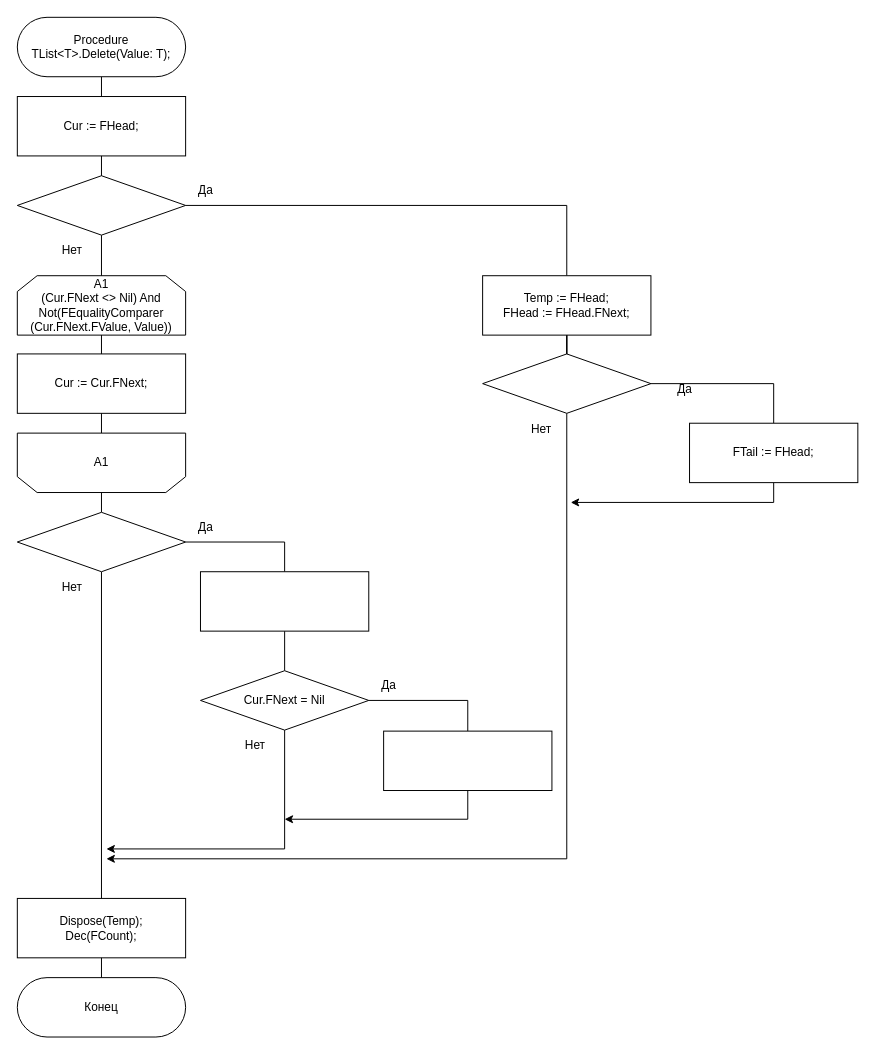
Some shapes in this 875 by 1054 pixel diagram are drawn without their labels. The centre of each missing label's shape, as x and y in pixels:
Cur.FNext <> Nil: pixel 101 541
FEqualityComparer (Cur.FValue, Value): pixel 101 205
FTail := Cur;: pixel 467 760
Temp := Cur.FNext; Cur.FNext := Cur.FNext.FNext;: pixel 284 601
Temp = FTail: pixel 566 383
